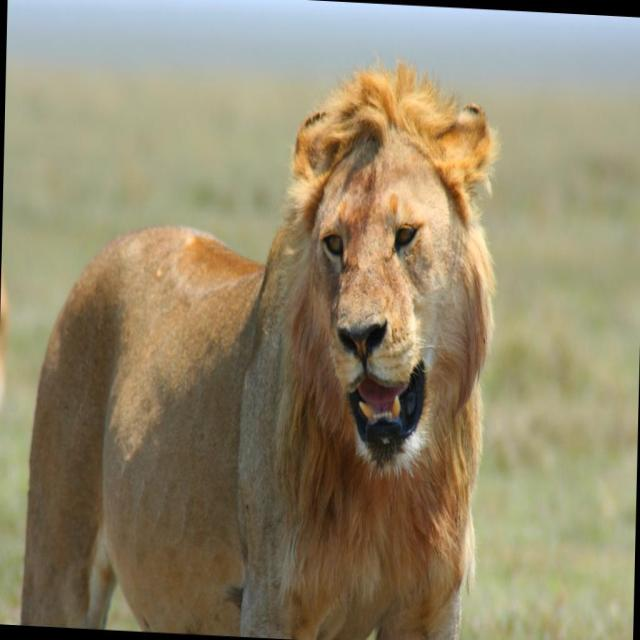Lion: (20, 36, 502, 639)
